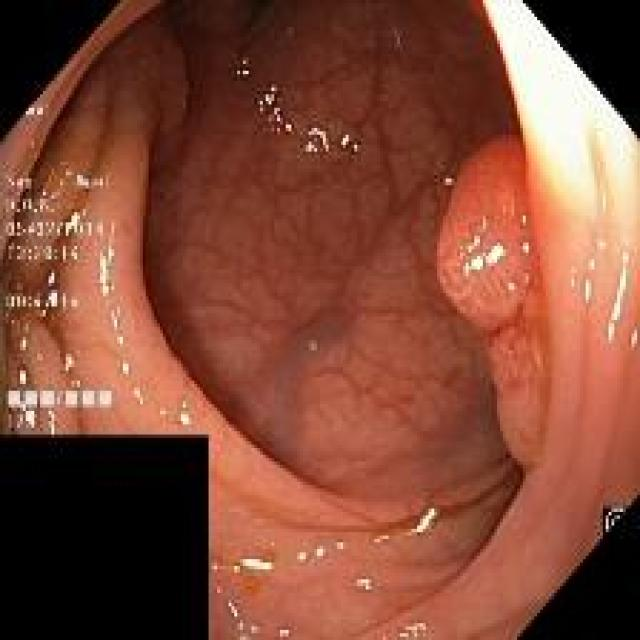Polyps: (436, 137, 548, 471)
